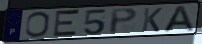5: (82, 8, 108, 37)
A: (161, 4, 196, 34)
E: (52, 8, 82, 38)
K: (140, 7, 164, 33)
O: (24, 11, 51, 39)
P: (109, 7, 139, 35)
